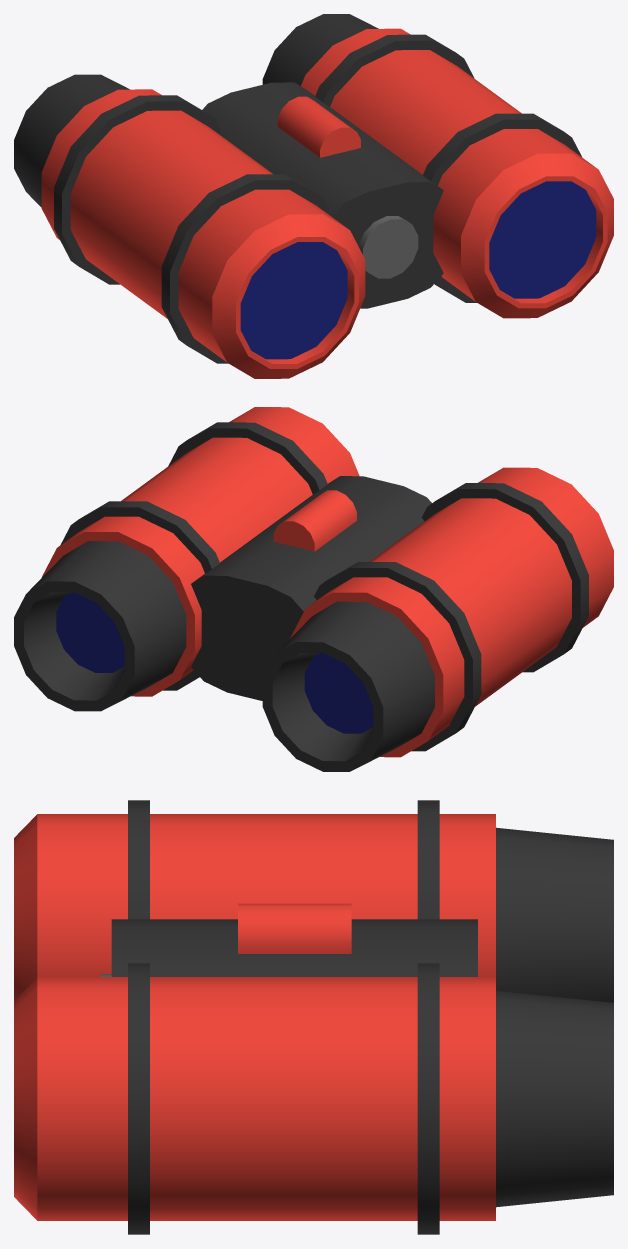
File: Binocle.fbx
3 renders of one model, top to bottom at view 1: azimuth 30°, elevation 25°; view 2: azimuth 150°, elevation 25°; view 3: azimuth 270°, elevation 25°, orthographic. The views are drawn at different scales.
Parts seen in each view (by area): view 1: Binocle; view 2: Binocle; view 3: Binocle.
Boxes of the visible parts, bbox=[...] form: Binocle: bbox=[14, 14, 613, 378]; Binocle: bbox=[14, 407, 613, 771]; Binocle: bbox=[14, 800, 613, 1234].
Size of the model in its own units: 22.4 by 9.35 by 20.65.
1 material, 1 textured.
